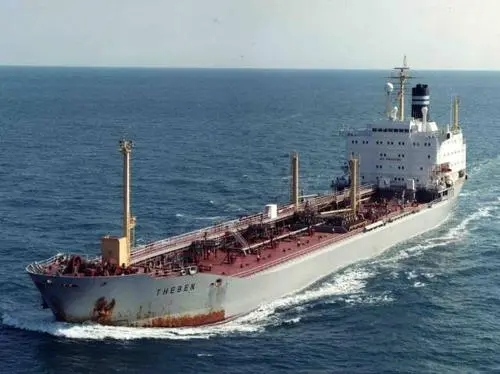Cargoship: (28, 54, 473, 331)
